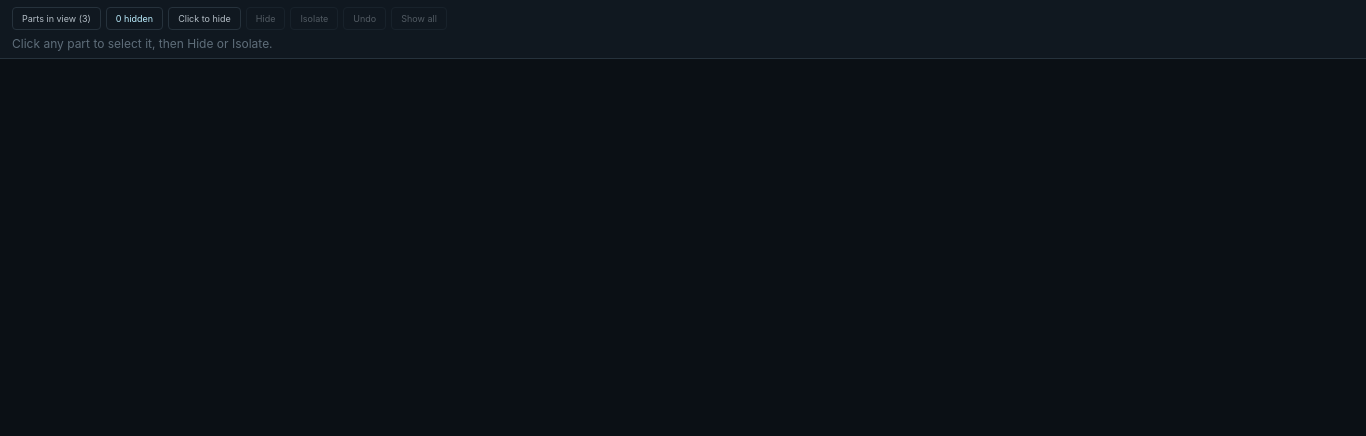
Test: keeps recovery controls available with all parts hidden
Click the button "Parts in view (3)": click(56, 18) x1=12 y1=7 x2=101 y2=30
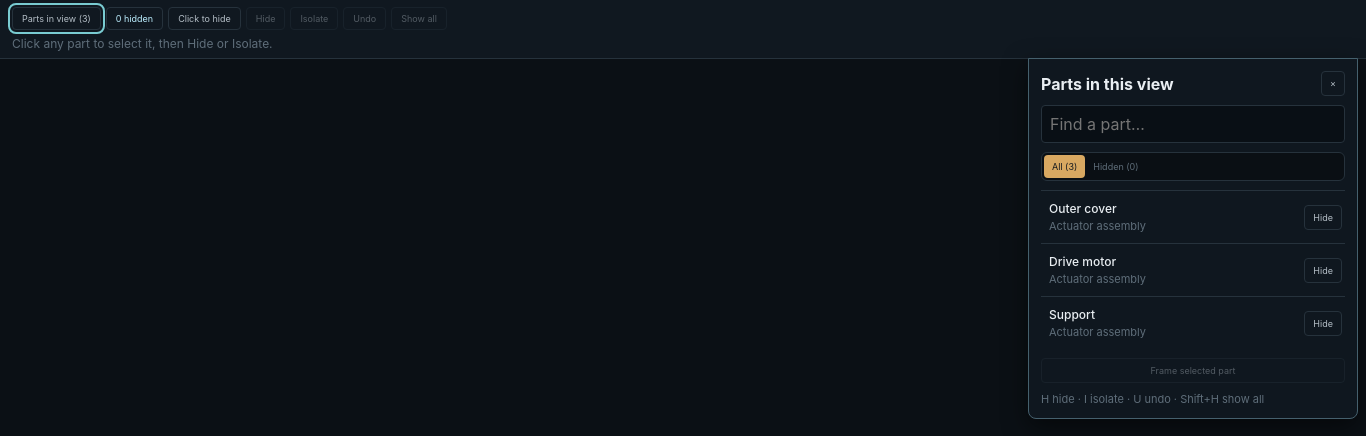
Click the button with aria-label "Hide Outer cover": click(1323, 217) x1=1304 y1=204 x2=1342 y2=230
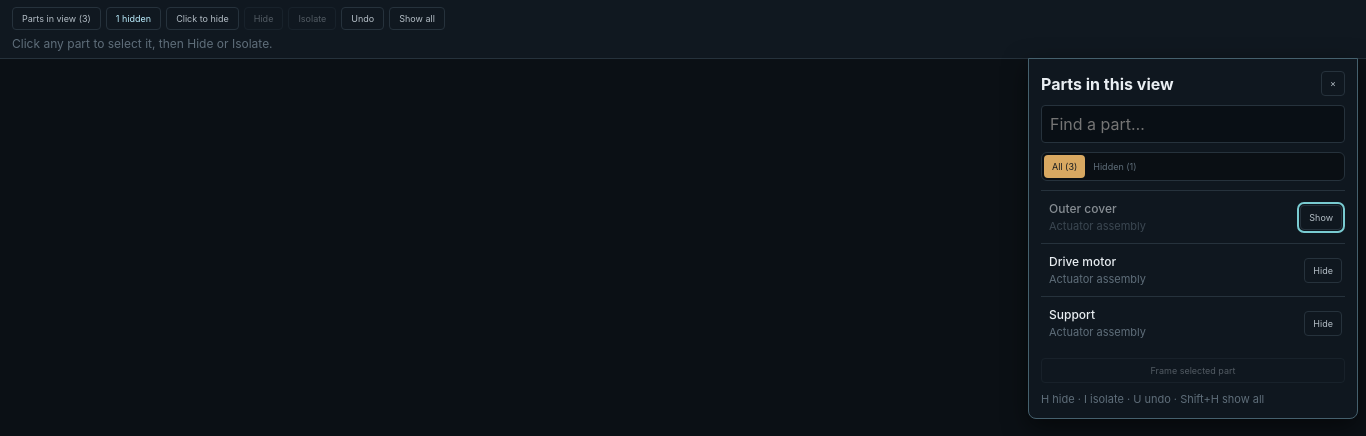
Click the button with aria-label "Hide Drive motor": click(1323, 270) x1=1304 y1=258 x2=1342 y2=282
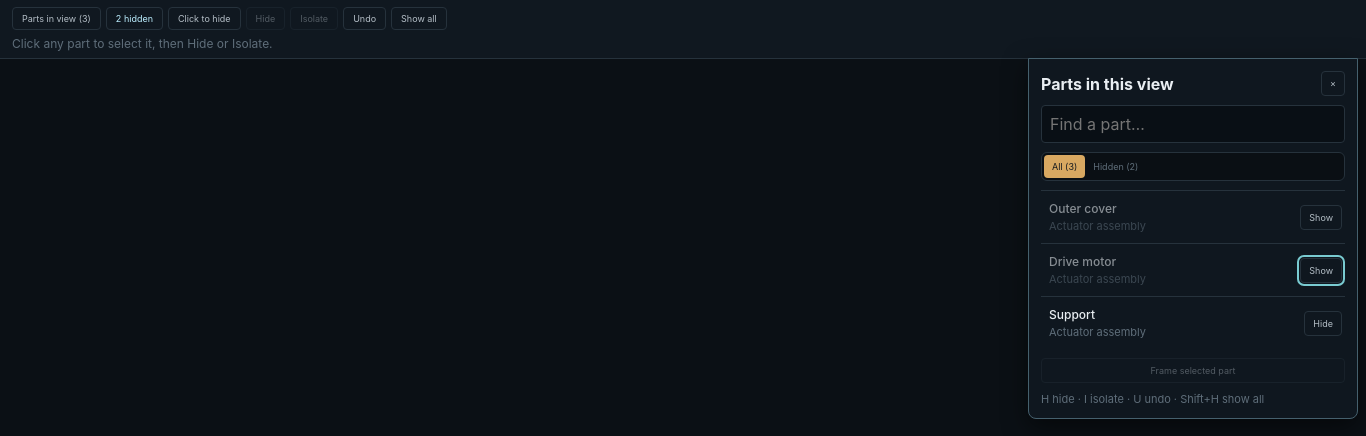
Click the button "Hide" below "Parts in this view": click(1323, 323) x1=1304 y1=310 x2=1342 y2=336
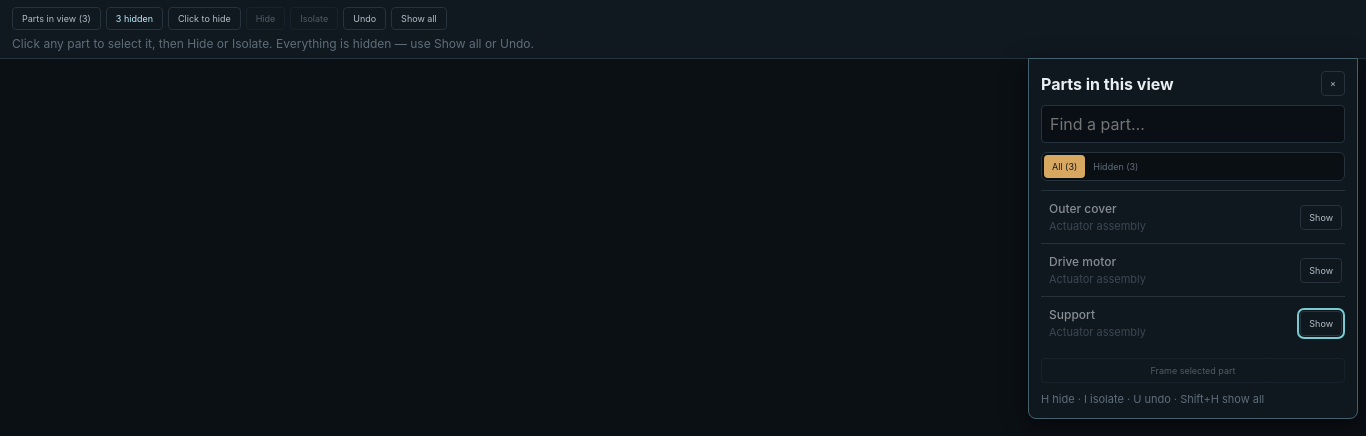
expect the message shows "Everything is hidden": met, box x1=273 y1=36 x2=534 y2=51
Click the button "Show all": click(419, 18) x1=391 y1=7 x2=447 y2=30
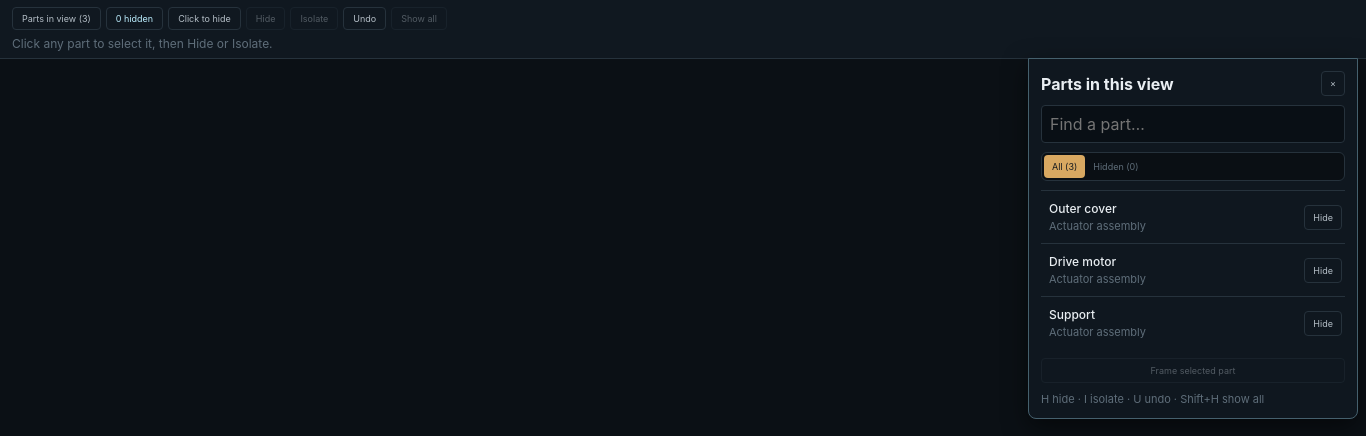
expect the button "0 hidden" is shown: met, box x1=106 y1=7 x2=163 y2=30
Click the button "Click to hide": click(204, 18) x1=168 y1=7 x2=241 y2=30
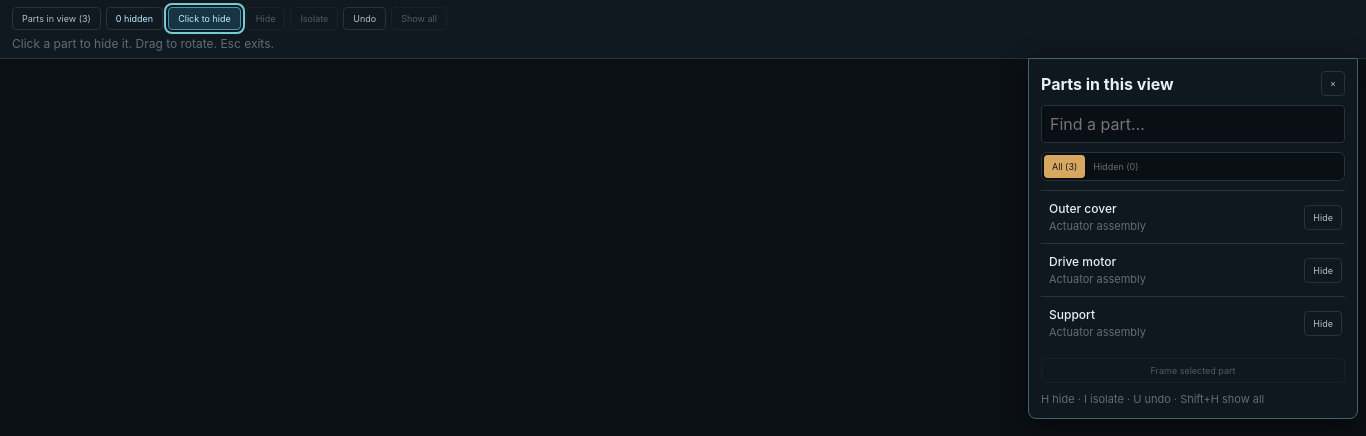
expect the message shows "Click a part to hide it": met, box x1=12 y1=36 x2=274 y2=51
